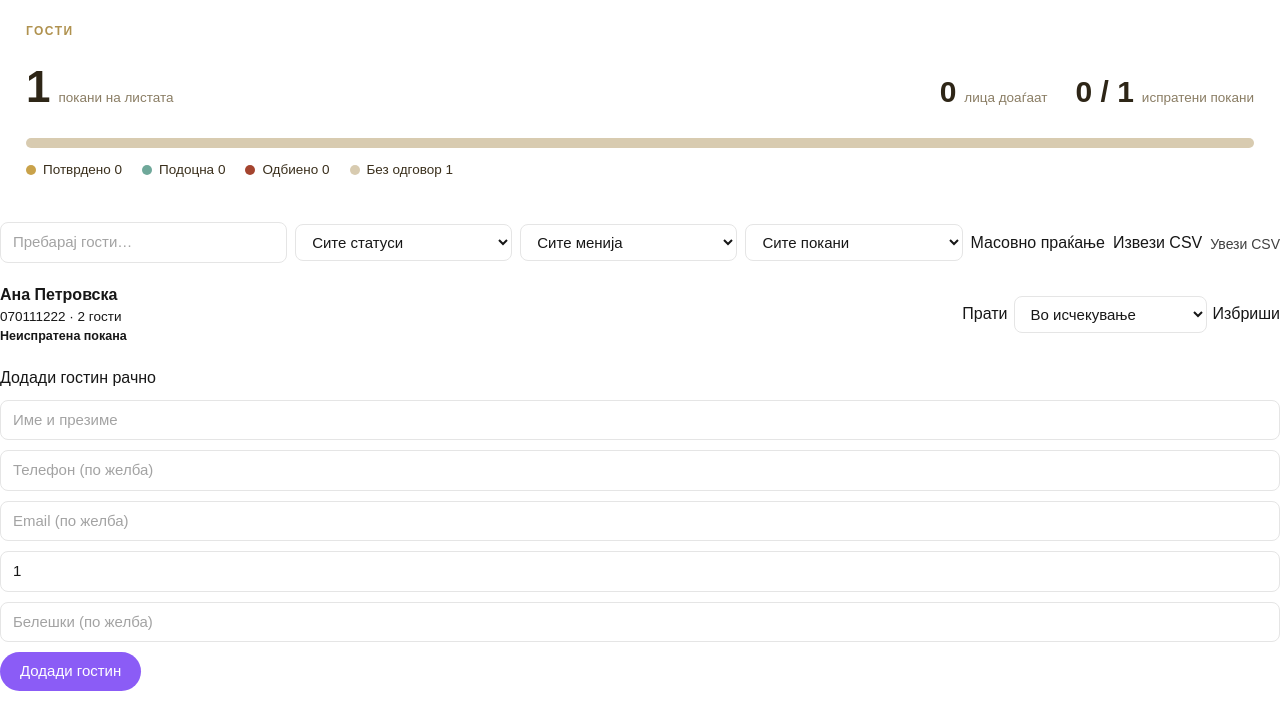
Test: GuestsClient final list (A7, A8, A17) › says when a guest has no table yet
What coordinates should you click on to do the following:
click the button with aria-label "Детали за Ана Петровска"
I would click on:
 (59, 295)
Its box is [0, 283, 117, 307].
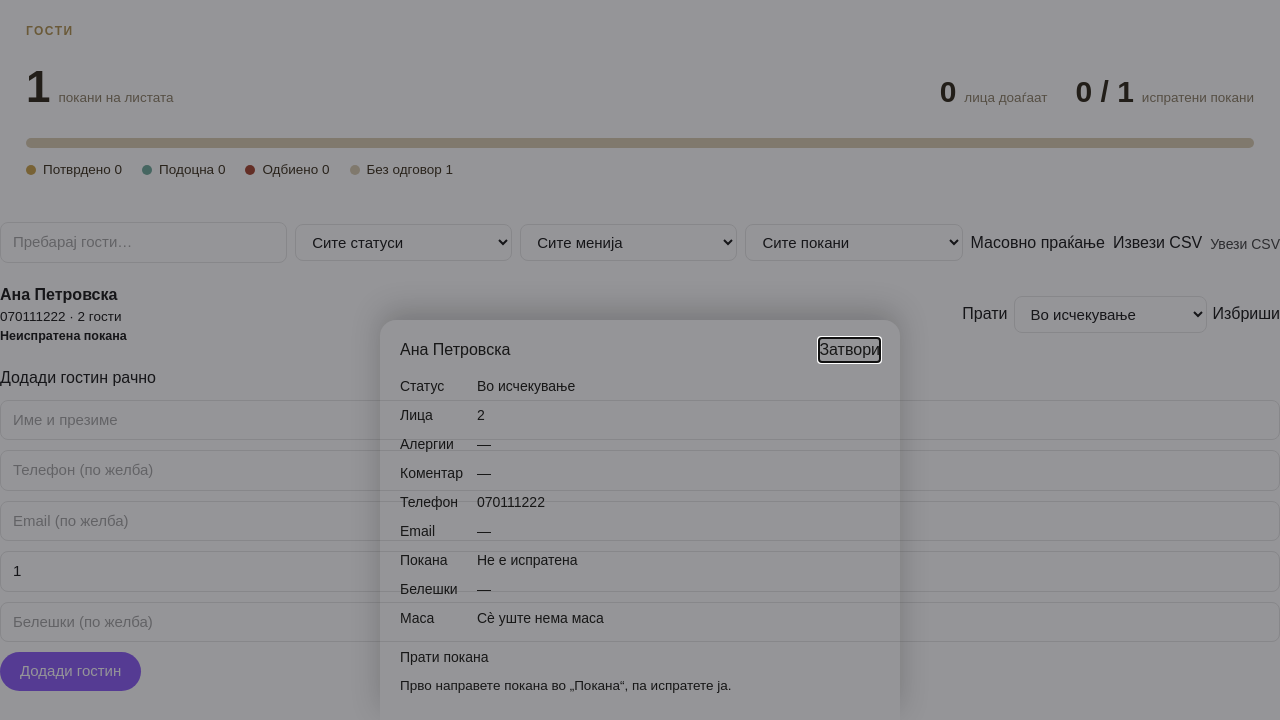
Now the text "Сè уште нема маса" is shown, box [477, 610, 604, 626]
